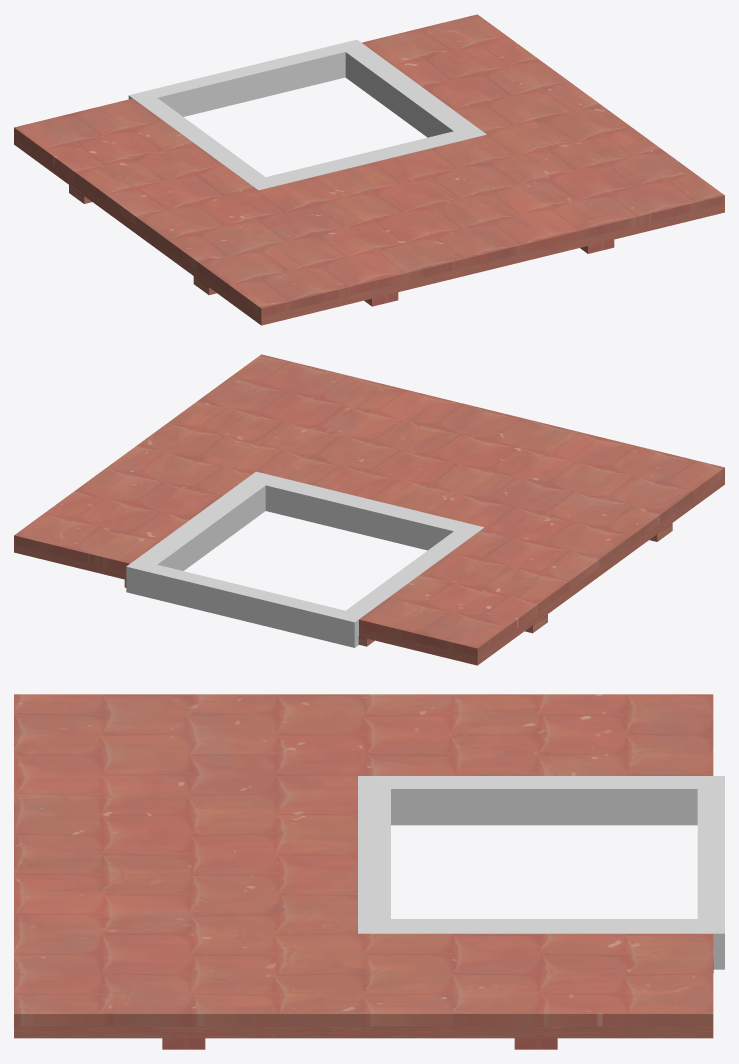
The model's file is sm_building_wapian02_01.fbx.
The picture shows the model from 3 angles, top to bottom: view 1: azimuth 30°, elevation 25°; view 2: azimuth 150°, elevation 25°; view 3: azimuth 270°, elevation 25°; orthographic projection. The views are drawn at different scales.
Parts seen in each view (by area): view 1: Cube_12.007, 立方体.135, Cube_12.010, Cube_12.008; view 2: Cube_12.007, 立方体.135, Cube_12.010, Cube_12.008; view 3: Cube_12.007, 立方体.135, Cube_12.010, Cube_12.008.
Part boxes in pixels (box(x1,y1,x2,y2)): Cube_12.007: box(14, 14, 724, 317); 立方体.135: box(128, 39, 486, 190); Cube_12.010: box(14, 136, 724, 325); Cube_12.008: box(69, 184, 614, 306); Cube_12.007: box(14, 354, 724, 656); 立方体.135: box(126, 471, 484, 647); Cube_12.010: box(14, 476, 724, 665); Cube_12.008: box(124, 523, 672, 646); Cube_12.007: box(14, 694, 713, 1026); 立方体.135: box(358, 776, 724, 969); Cube_12.010: box(14, 1026, 713, 1038); Cube_12.008: box(162, 957, 713, 1049).
Bounding box in the file's own units: 553 × 29.24 × 520.
